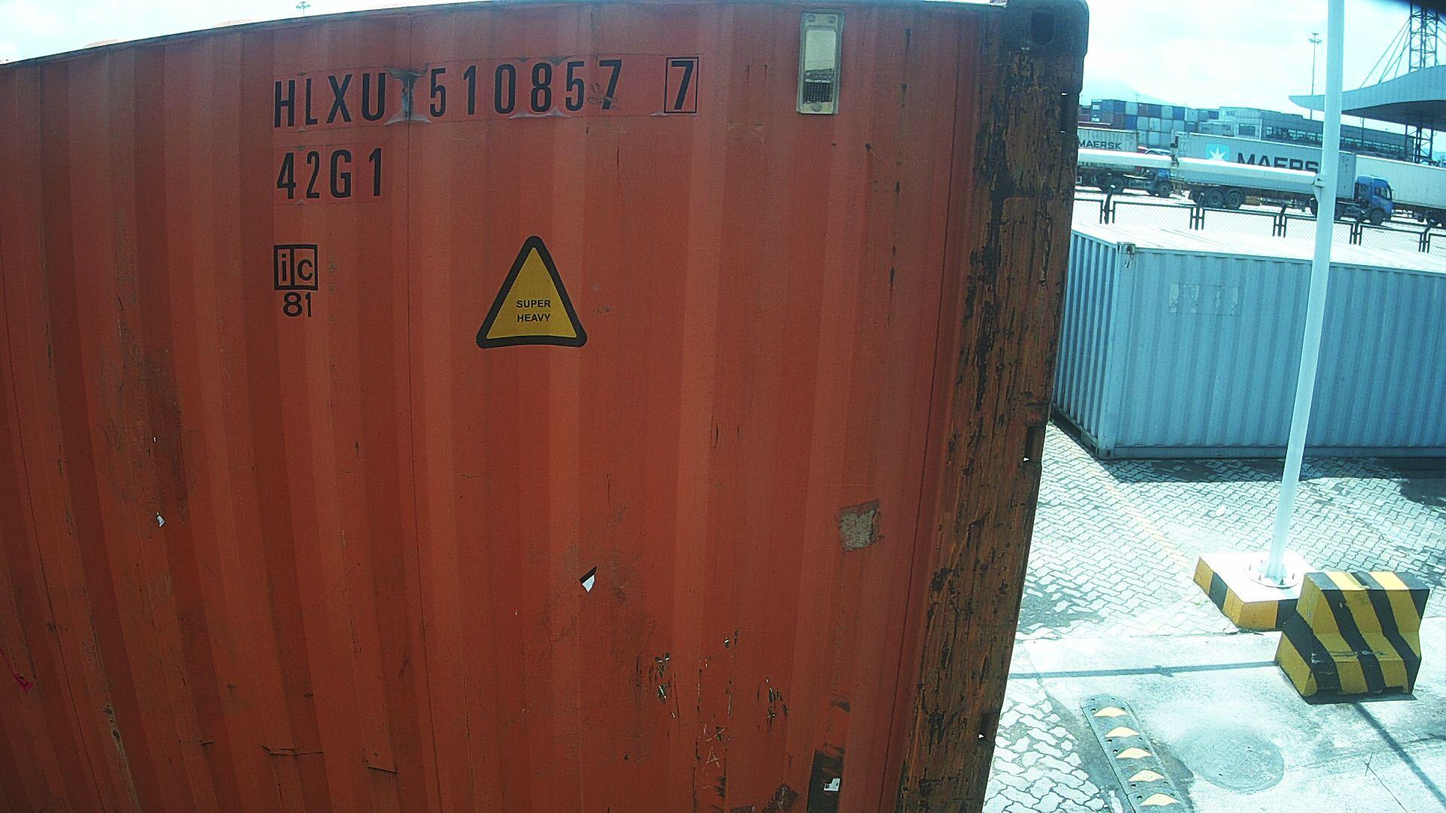container-numbers: (265, 51, 704, 133), (271, 145, 390, 205)
